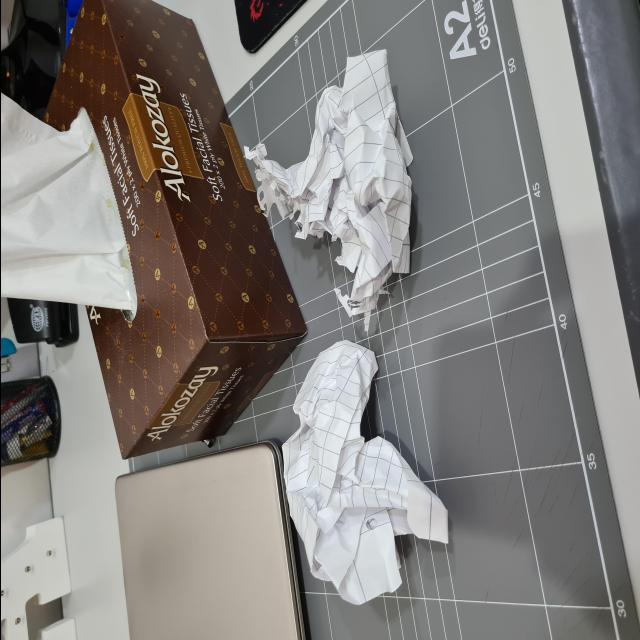kertas: (237, 45, 432, 315), (275, 343, 441, 609)
